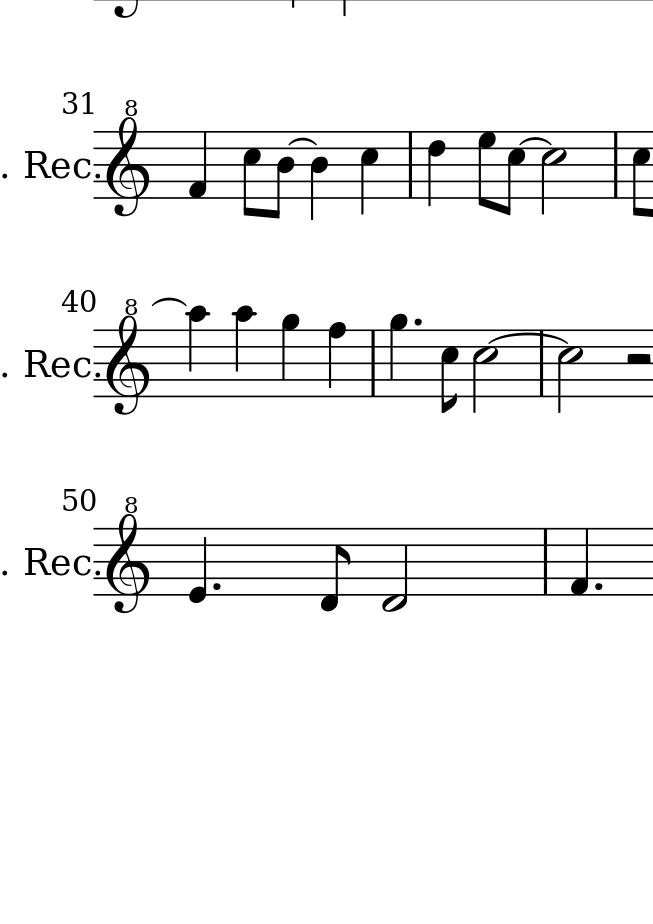0: (79, 288, 97, 315), (79, 488, 96, 515)
1: (82, 90, 94, 116)
2_-1: (381, 526, 408, 612)
2_5: (539, 129, 568, 217), (556, 326, 584, 415), (471, 328, 499, 416)
3: (61, 90, 77, 117)
4: (60, 288, 79, 315)
4_0: (187, 525, 211, 604)
4_1: (186, 131, 209, 201), (569, 527, 592, 597)
4_10: (183, 304, 210, 400), (231, 305, 256, 400)
4_4: (309, 130, 331, 223)
4_5: (359, 129, 381, 216)
4_6: (424, 130, 453, 207)
4_8: (326, 320, 347, 400)
4_9: (386, 312, 409, 398), (279, 313, 300, 398)
5: (62, 487, 77, 514)
8_-1: (320, 526, 354, 613)
8_4: (268, 131, 294, 222)
8_5: (501, 130, 526, 217), (241, 128, 263, 218), (629, 129, 651, 219), (438, 329, 461, 415)
8_7: (476, 130, 497, 208)
High_Gclef: (103, 299, 151, 416), (103, 97, 150, 216), (102, 495, 148, 614)
Rec: (22, 347, 95, 381), (22, 148, 93, 181), (22, 546, 94, 578)
Rests2: (623, 348, 651, 370)
Single_barline: (537, 528, 554, 596), (365, 332, 383, 395), (608, 131, 624, 198), (403, 131, 419, 197), (535, 329, 550, 397)
Slur: (489, 333, 566, 344), (517, 135, 553, 148), (150, 297, 187, 309), (285, 136, 317, 147)
dot: (410, 316, 424, 330), (210, 580, 223, 594), (593, 579, 605, 593)
